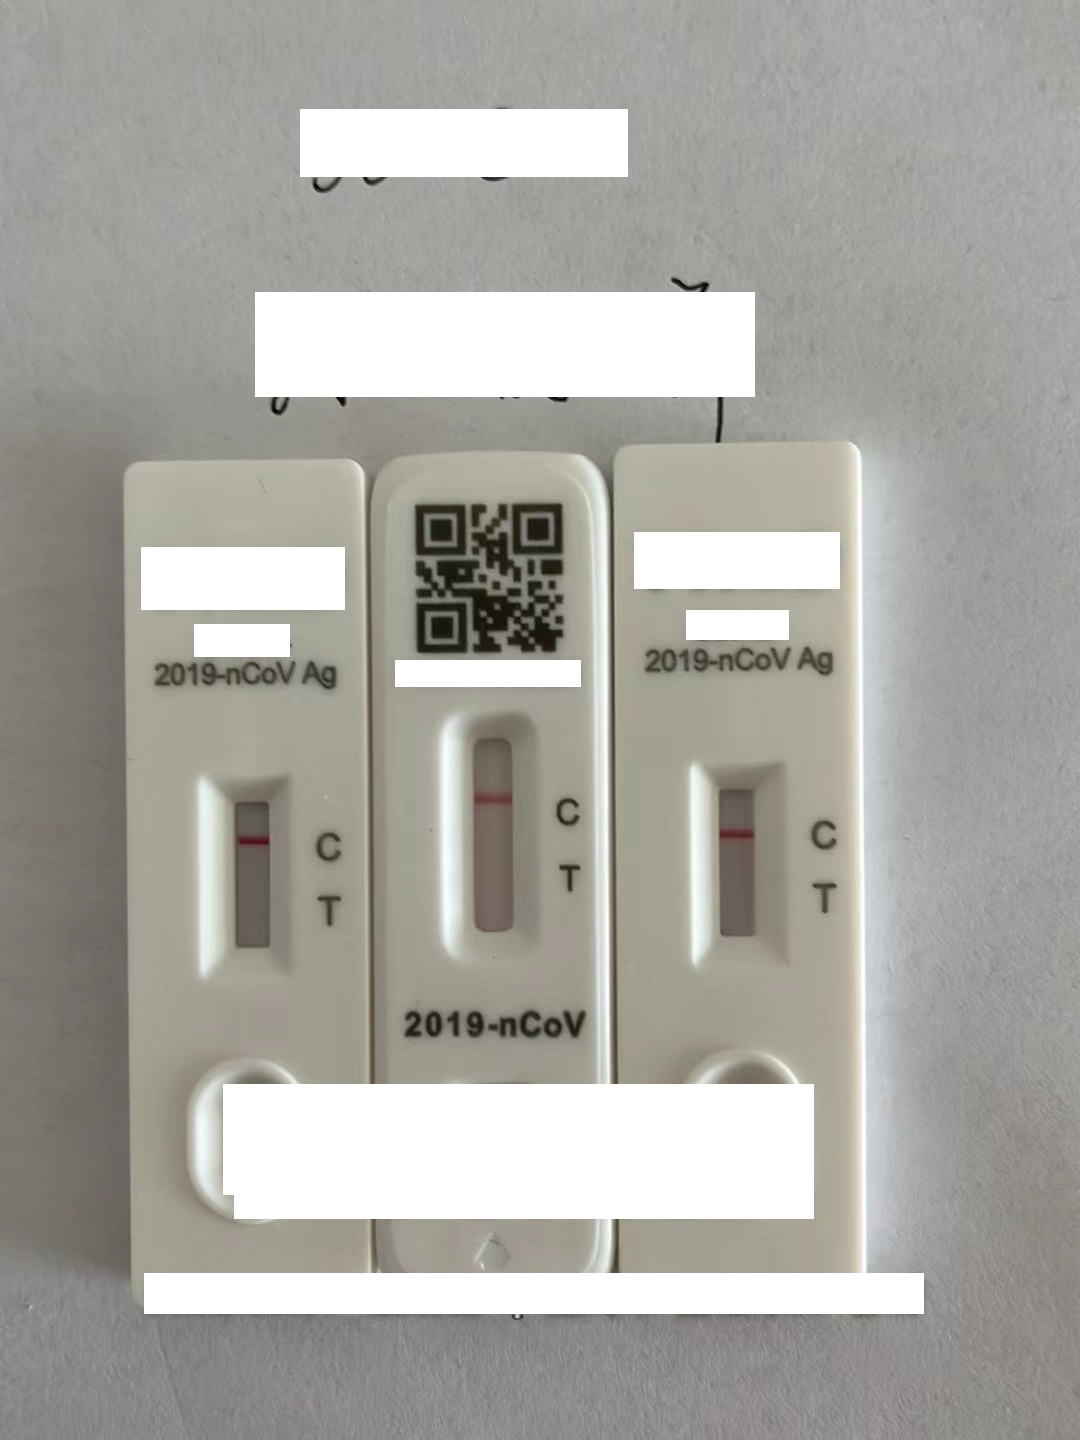negative: (444, 711, 538, 969), (694, 756, 782, 964), (205, 770, 292, 974)
